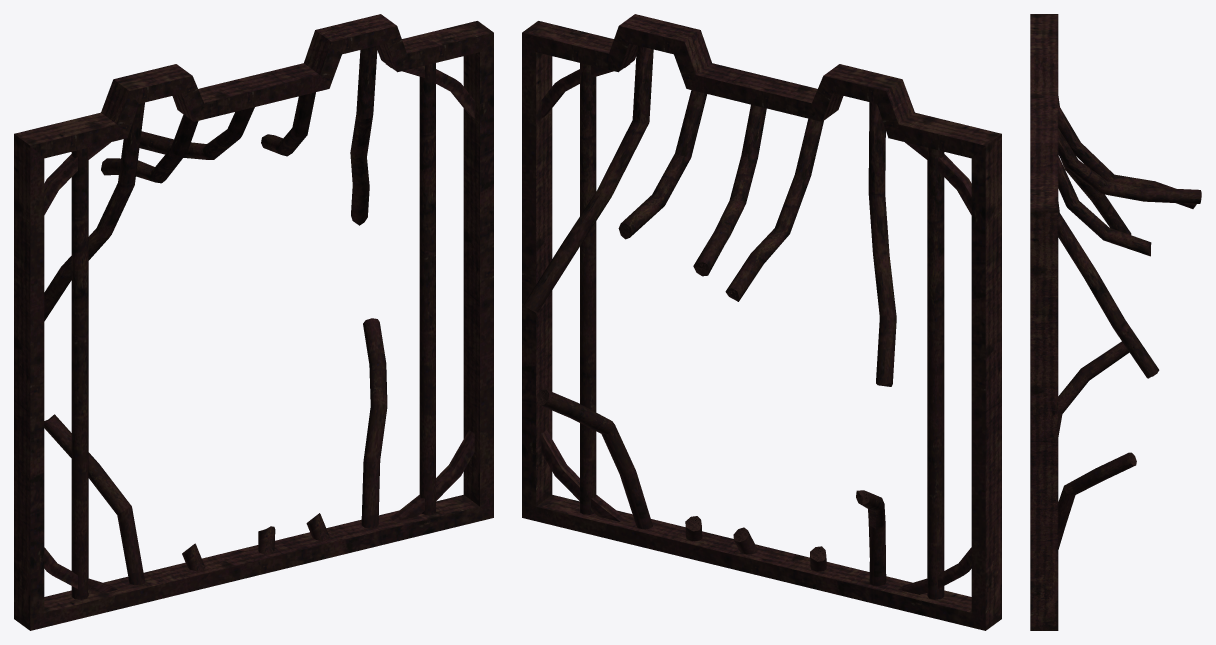
File: sewer_grate_broken.dae
3 renders of one model, left to right at view 1: azimuth 30°, elevation 25°; view 2: azimuth 150°, elevation 25°; view 3: azimuth 270°, elevation 25°, orthographic. The views are drawn at different scales.
Parts seen in each view (by area): view 1: polySurface38; view 2: polySurface38; view 3: polySurface38.
Part boxes in pixels (x1,y1,x2,y2): polySurface38: [14, 14, 493, 630]; polySurface38: [522, 14, 1001, 630]; polySurface38: [1030, 14, 1201, 630].
Size of the model in its own units: 4 by 4.25 by 1.48.
